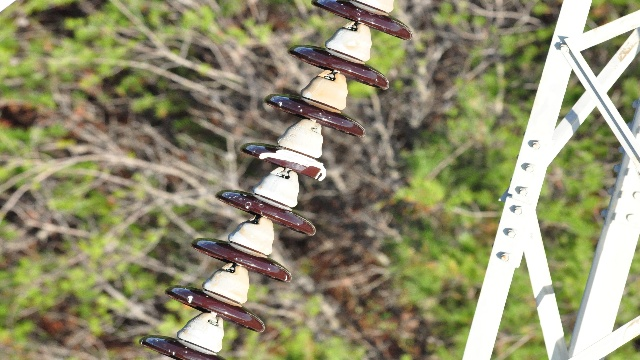broken_local: (256, 148, 327, 181)
insulator_unspecified: (137, 1, 413, 359)
